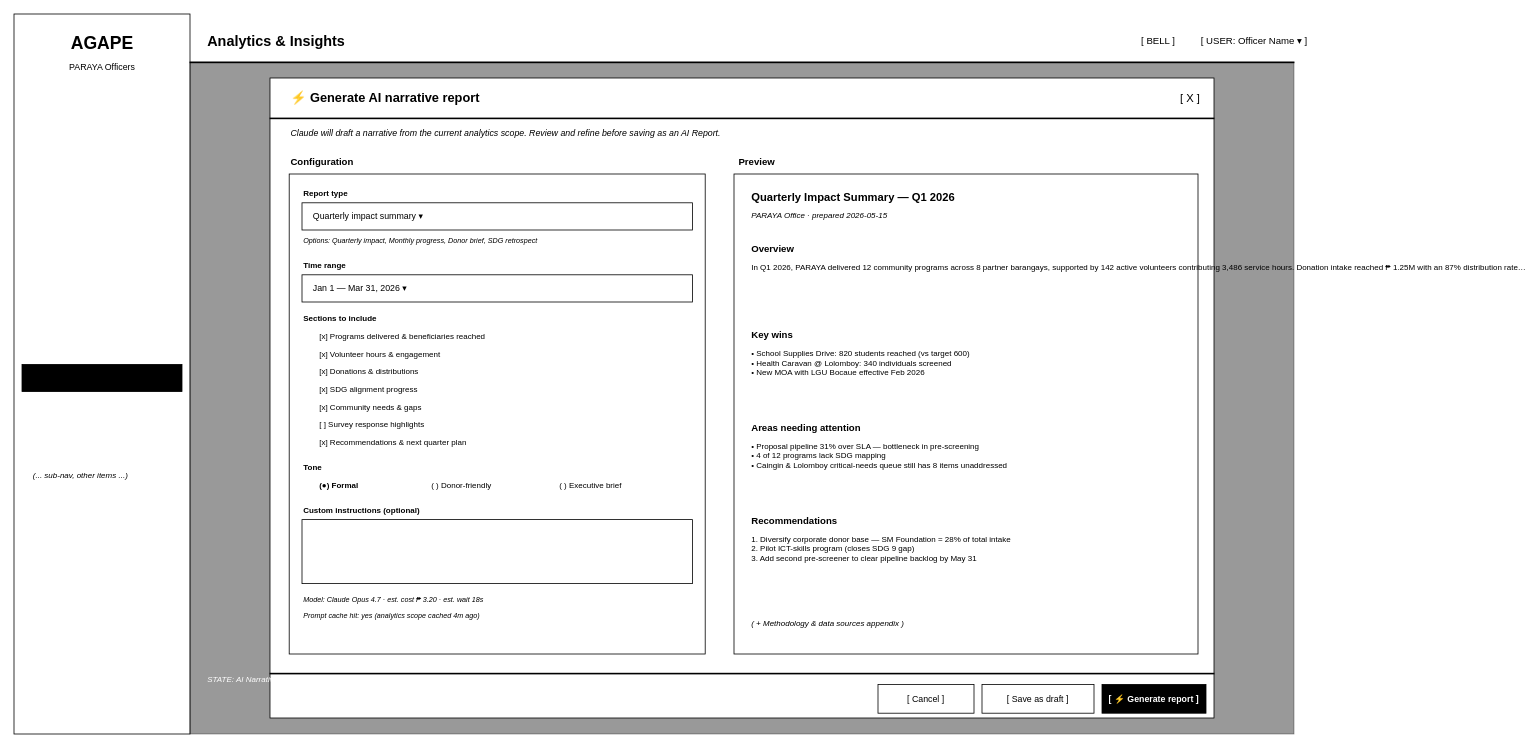
This 1540x748 diagram has some shape labels left out. The box of each missing label's shape, as (x1, y1, x2, y2) in pixels:
[x] Analytics: (21, 364, 182, 392)
e.g. emphasise SM Foundation partnership; highlight Brgy Lolomboy progress: (301, 519, 692, 584)
